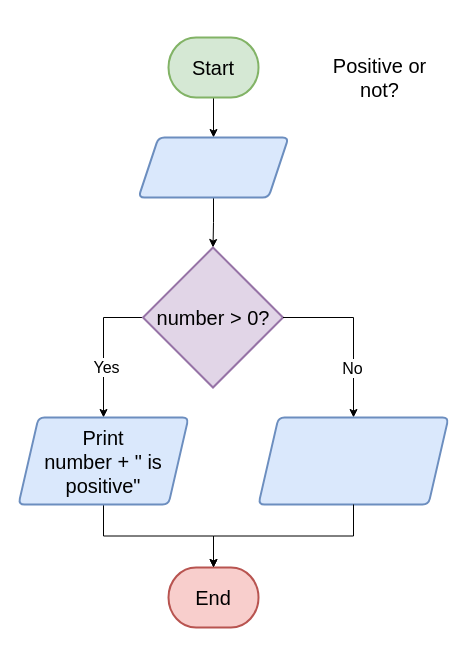
This 466x645 diagram has some shape labels left out. Each missing label, with the centre of its shape:
Input number: point (213, 167)
Print number + " is not positive": point (353, 460)
